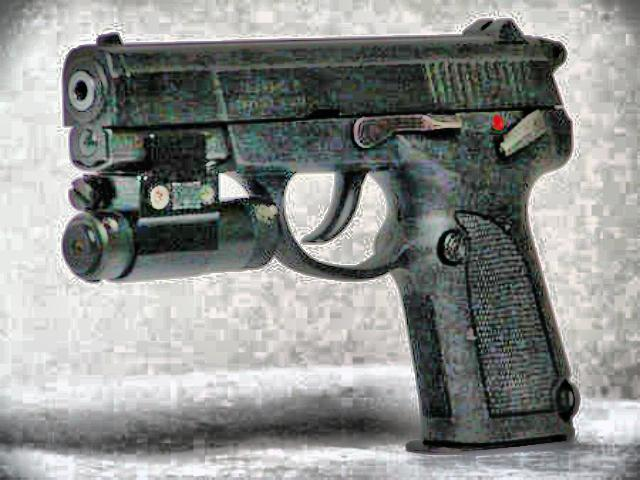pistol: (60, 16, 576, 450)
